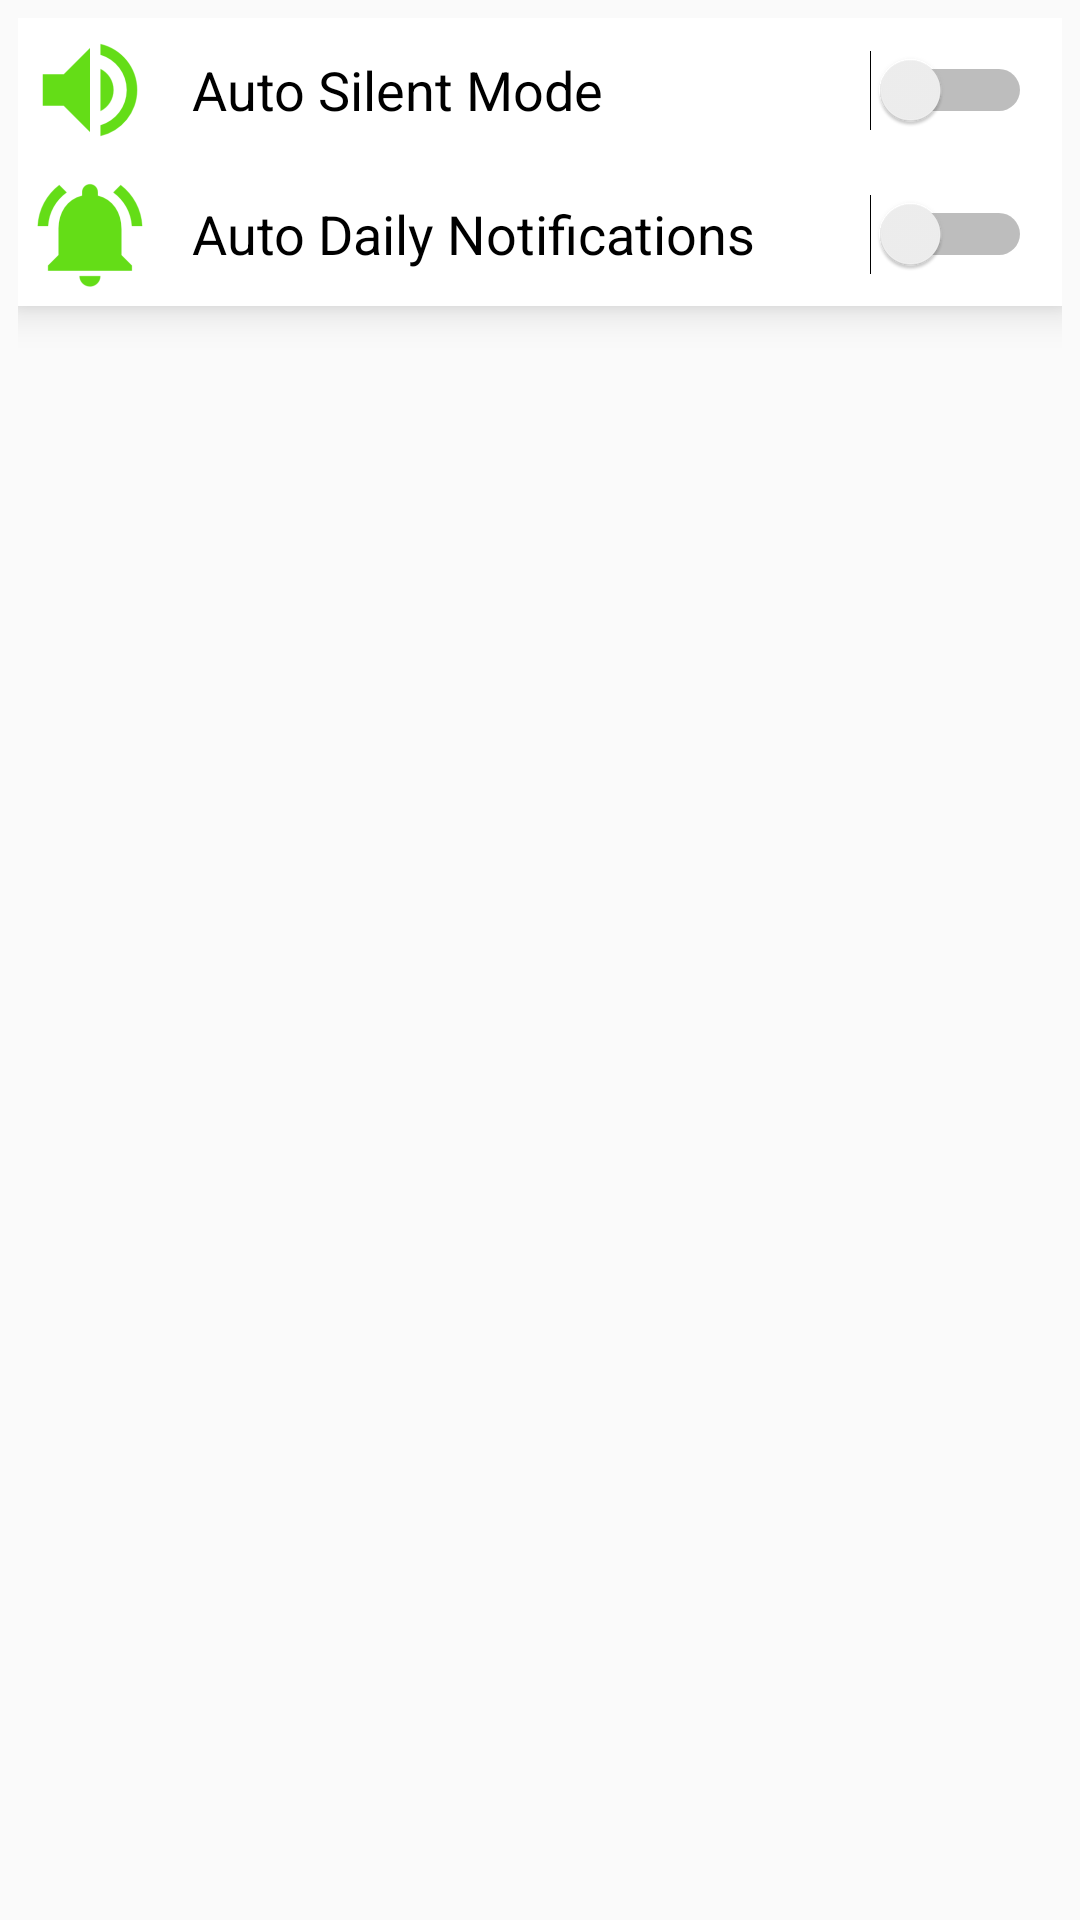

Icons on this 1080px x 1920px Android screen, each with its box as [x1,y1,x2,y2]:
volume on: [42,44,138,136]
